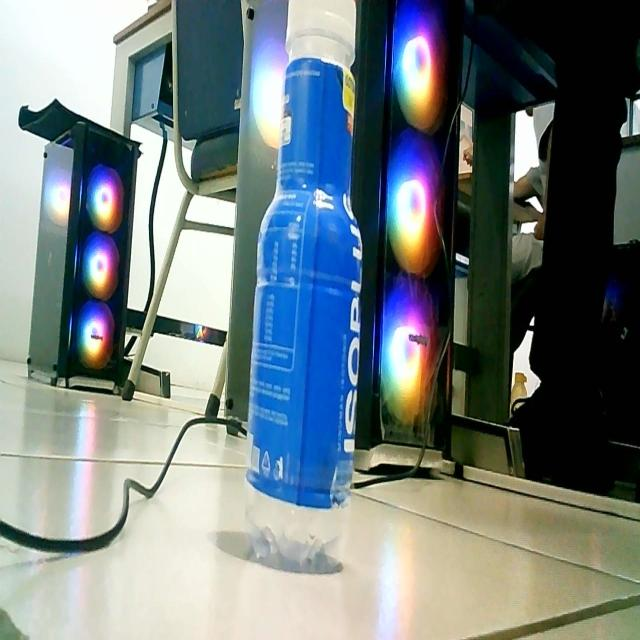botol: (238, 1, 367, 579)
